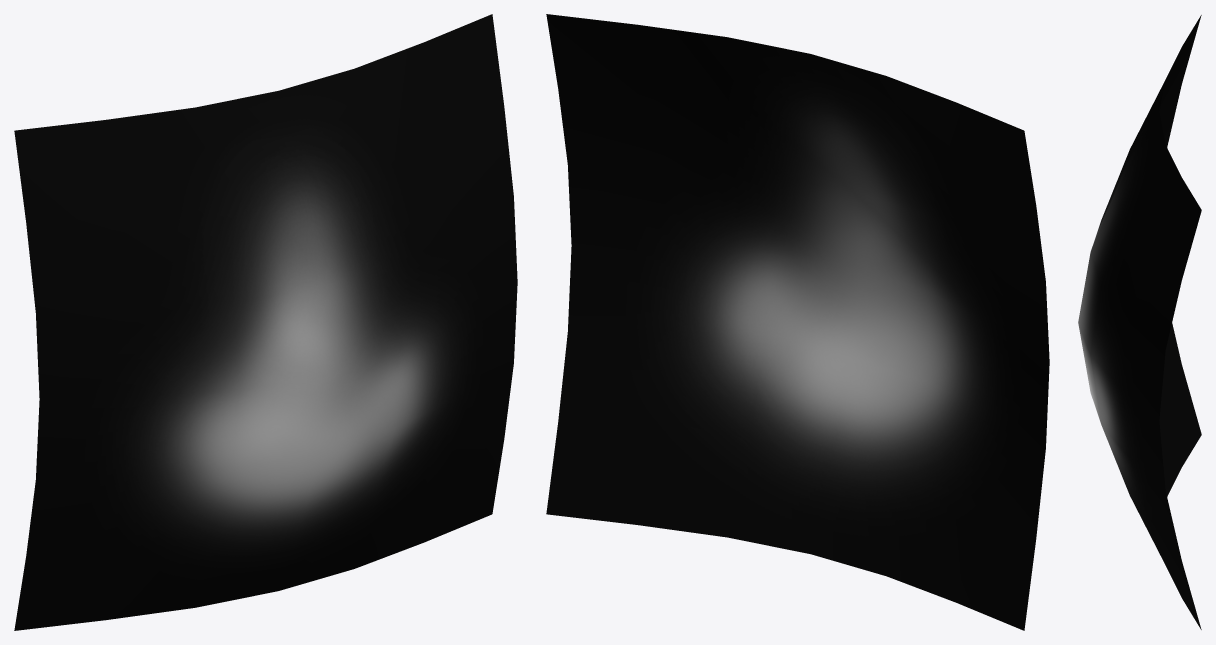
Rendered from FlamePlane.fbx.
The picture shows the model from 3 angles, left to right: view 1: azimuth 30°, elevation 25°; view 2: azimuth 150°, elevation 25°; view 3: azimuth 270°, elevation 25°; orthographic projection. The views are drawn at different scales.
Visible parts, largest first — view 1: FlamePlane; view 2: FlamePlane; view 3: FlamePlane.
Boxes of the visible parts, box(x1,y1,x2,y2) form: FlamePlane: box(14, 14, 517, 630); FlamePlane: box(546, 14, 1049, 630); FlamePlane: box(1078, 15, 1201, 629).
Size of the model in its own units: 100 by 100 by 26.64.
